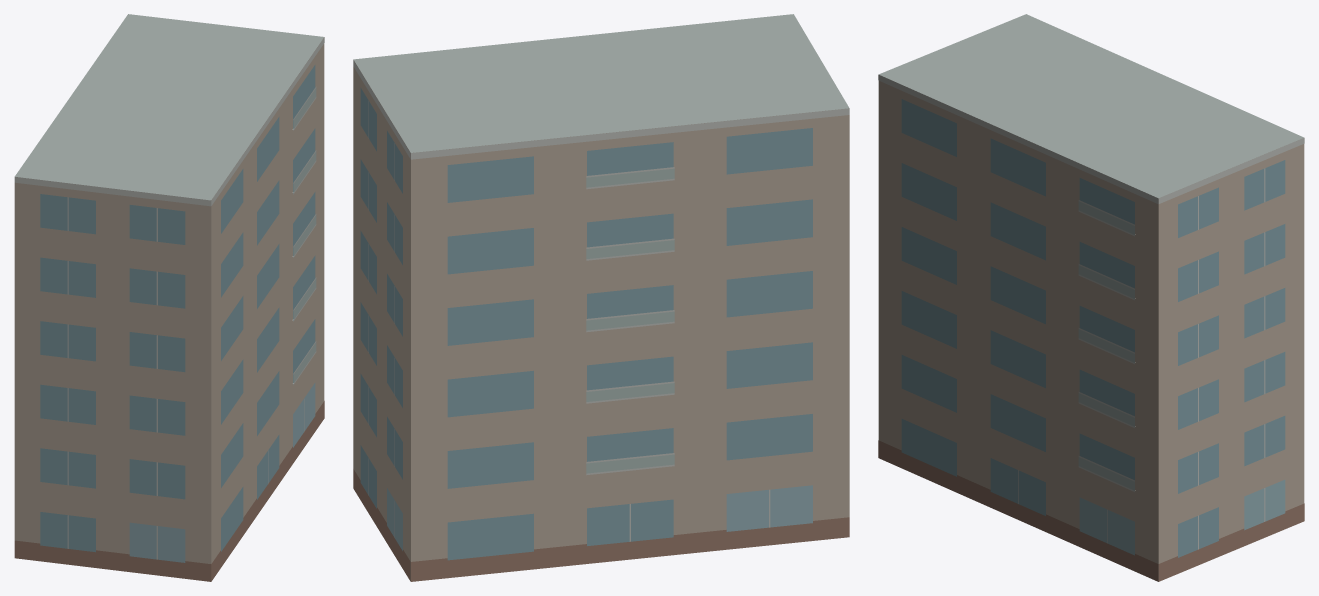
File: survey-upis-32885934.glb
3 renders of one model, left to right at view 1: azimuth 30°, elevation 25°; view 2: azimuth 150°, elevation 25°; view 3: azimuth 270°, elevation 25°, orthographic. The views are drawn at different scales.
Visible parts, largest first — view 1: survey-upis-32885934.tmp; view 2: survey-upis-32885934.tmp; view 3: survey-upis-32885934.tmp.
Boxes of the visible parts, x1=… form: survey-upis-32885934.tmp: x1=14, y1=14, x2=324, y2=581; survey-upis-32885934.tmp: x1=353, y1=14, x2=849, y2=581; survey-upis-32885934.tmp: x1=878, y1=14, x2=1304, y2=581.
Bounding box in the file's own units: 16.19 × 15.7 × 15.81.
